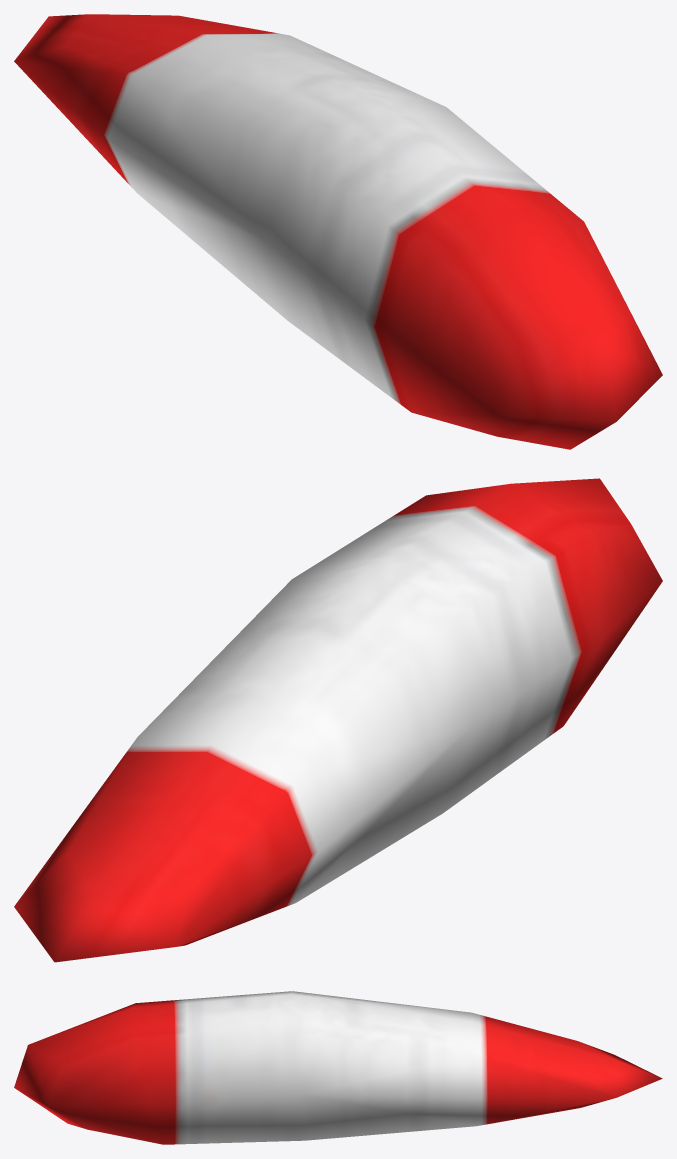
File: torpedo.fbx
3 renders of one model, top to bottom at view 1: azimuth 30°, elevation 25°; view 2: azimuth 150°, elevation 25°; view 3: azimuth 270°, elevation 25°, orthographic. The views are drawn at different scales.
Parts seen in each view (by area): view 1: pasted__polySurface71; view 2: pasted__polySurface71; view 3: pasted__polySurface71.
Boxes of the visible parts, x1,y1,x2,y2 form: pasted__polySurface71: (14,14,662,449); pasted__polySurface71: (14,478,662,962); pasted__polySurface71: (14,991,662,1144).
Size of the model in its own units: 11.13 by 12.07 by 49.64.
Materials: 1 (1 with a texture image).
